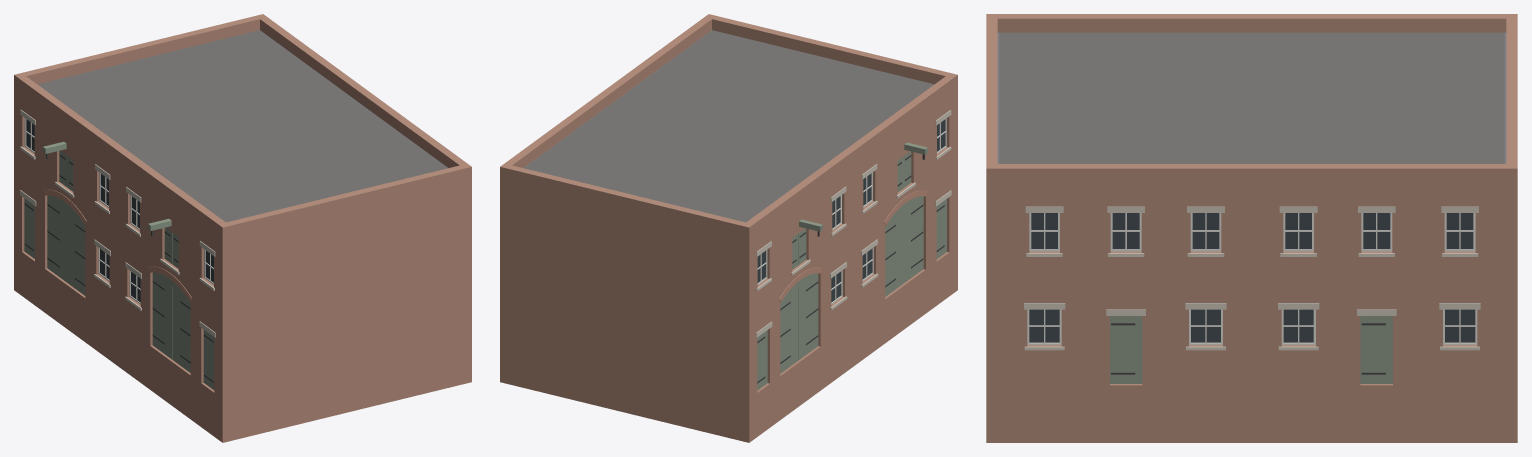
File: mark_kimball_house_2108_prairie_coach_house__as_standing_1904.glb
3 views of the same model, side by side, from view 1: azimuth 30°, elevation 25°; view 2: azimuth 150°, elevation 25°; view 3: azimuth 270°, elevation 25° (orthographic). The views are drawn at different scales.
Visible parts, largest first — view 1: mark_kimball_house_2108_prairie_coach_house__as_standing_190; view 2: mark_kimball_house_2108_prairie_coach_house__as_standing_190; view 3: mark_kimball_house_2108_prairie_coach_house__as_standing_190.
Part boxes in pixels (<box>): mark_kimball_house_2108_prairie_coach_house__as_standing_190: <box>14,14,471,442</box>; mark_kimball_house_2108_prairie_coach_house__as_standing_190: <box>500,14,957,442</box>; mark_kimball_house_2108_prairie_coach_house__as_standing_190: <box>986,14,1517,442</box>.
Size of the model in its own units: 11.62 by 8.81 by 15.48.
